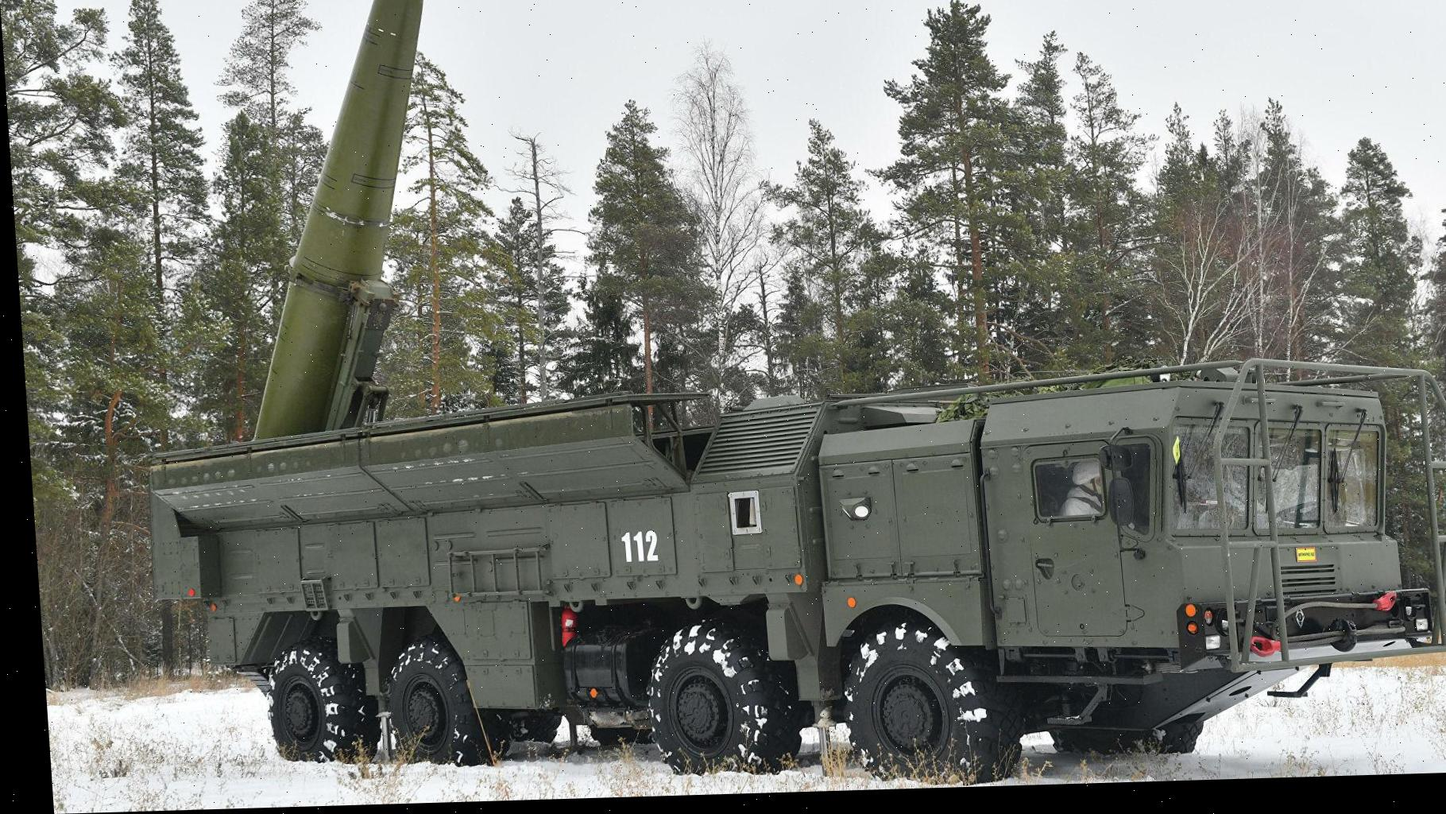rszo: (99, 376, 1446, 812)
